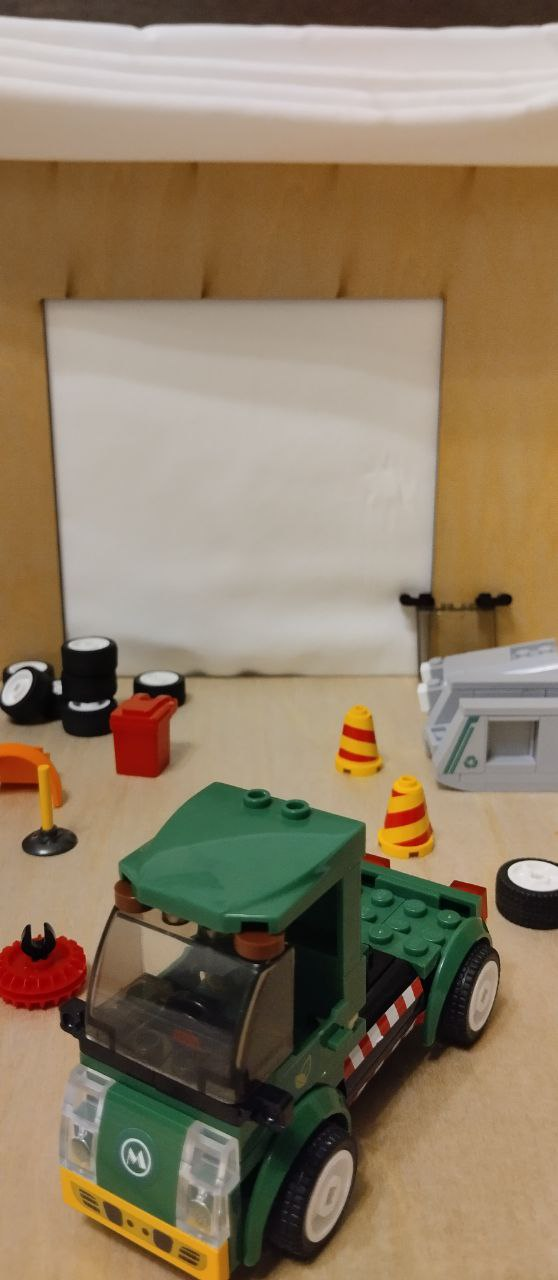Cone: (373, 769, 452, 860), (332, 703, 392, 779)
Object Red: (102, 692, 186, 781)
Truck: (56, 769, 511, 1277)
